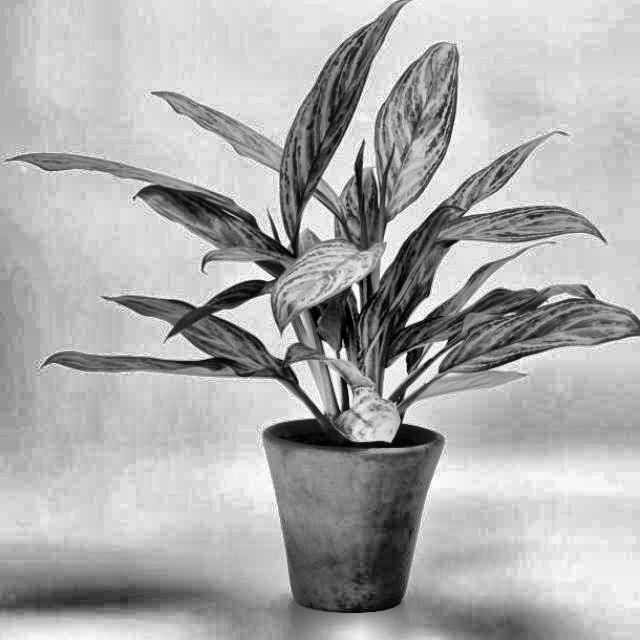plants: (142, 76, 508, 436)
